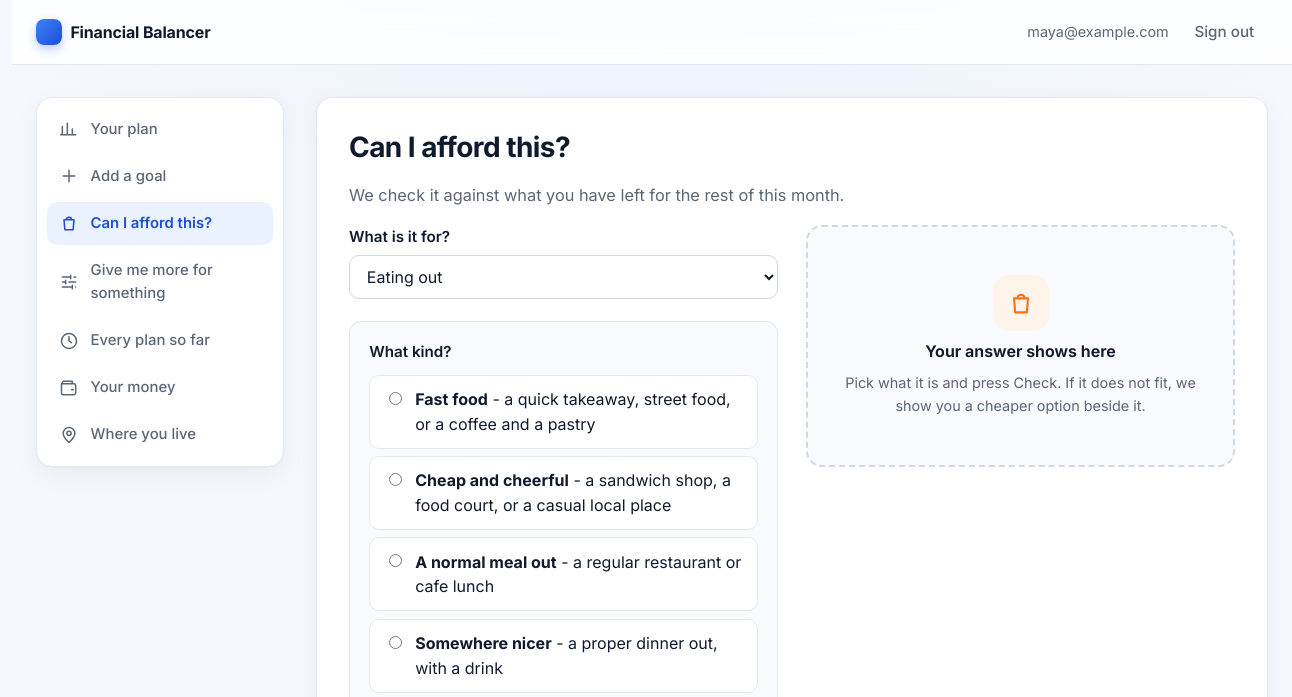
can I afford this? › never gives a verdict without the cheaper option beside it, and that option’s own verdict
The image size is (1292, 697).
Click the radio button labelled "A normal meal out - a regular restaurant or cafe lunch": (395, 561) left=389, top=554, right=402, bottom=567
(page scrolled)
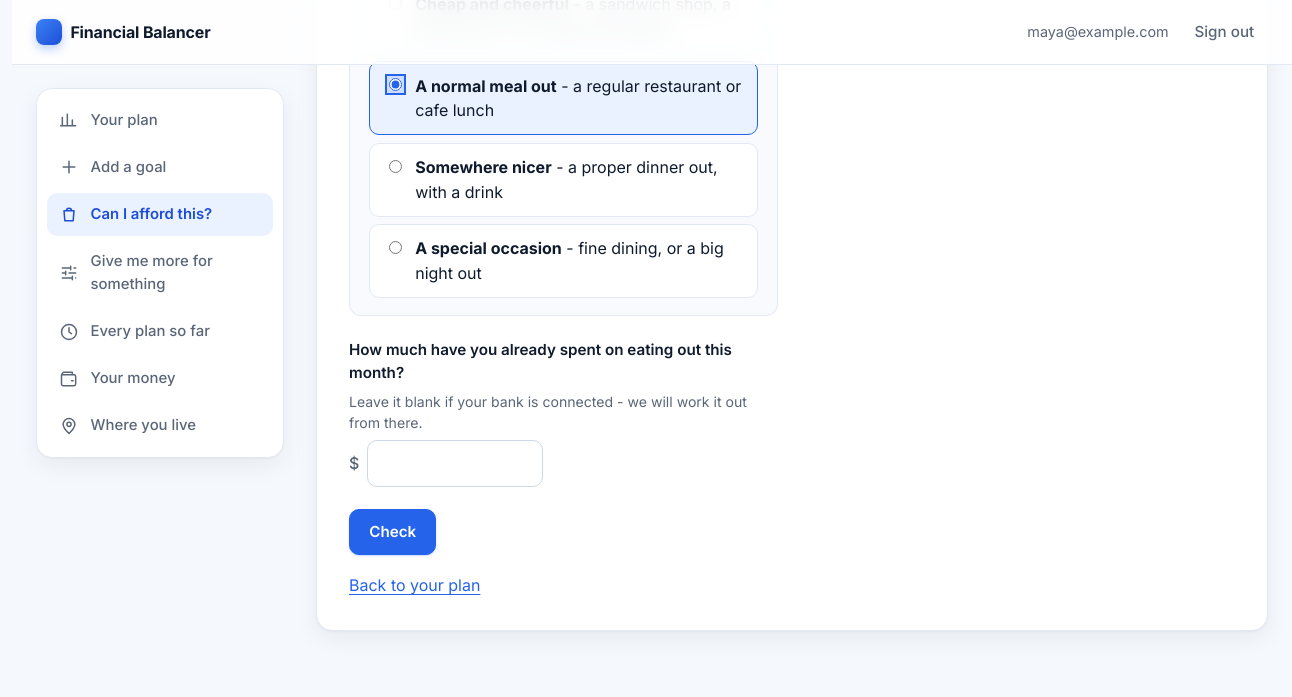
In the field labelled "How much have you already spent on eating out this month?": (455, 464) left=367, top=440, right=543, bottom=487, type "120.00"
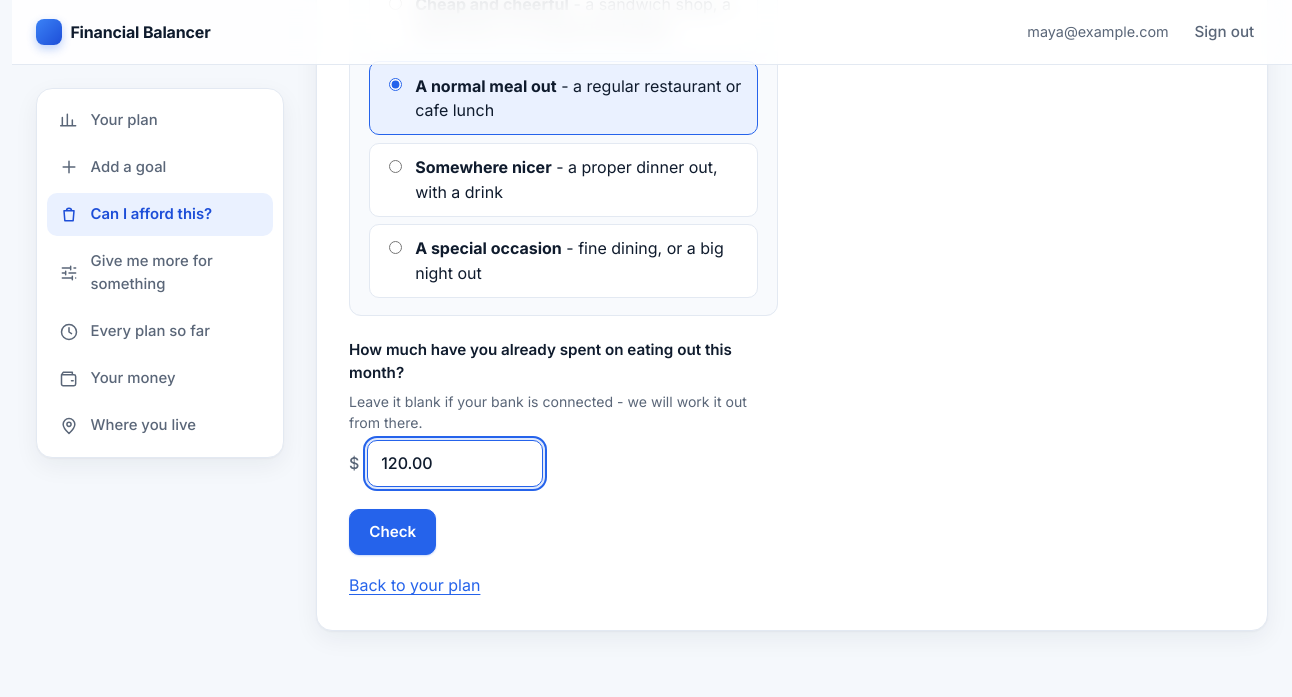
Click the button "Check": (393, 532) left=349, top=509, right=436, bottom=555
(page scrolled)
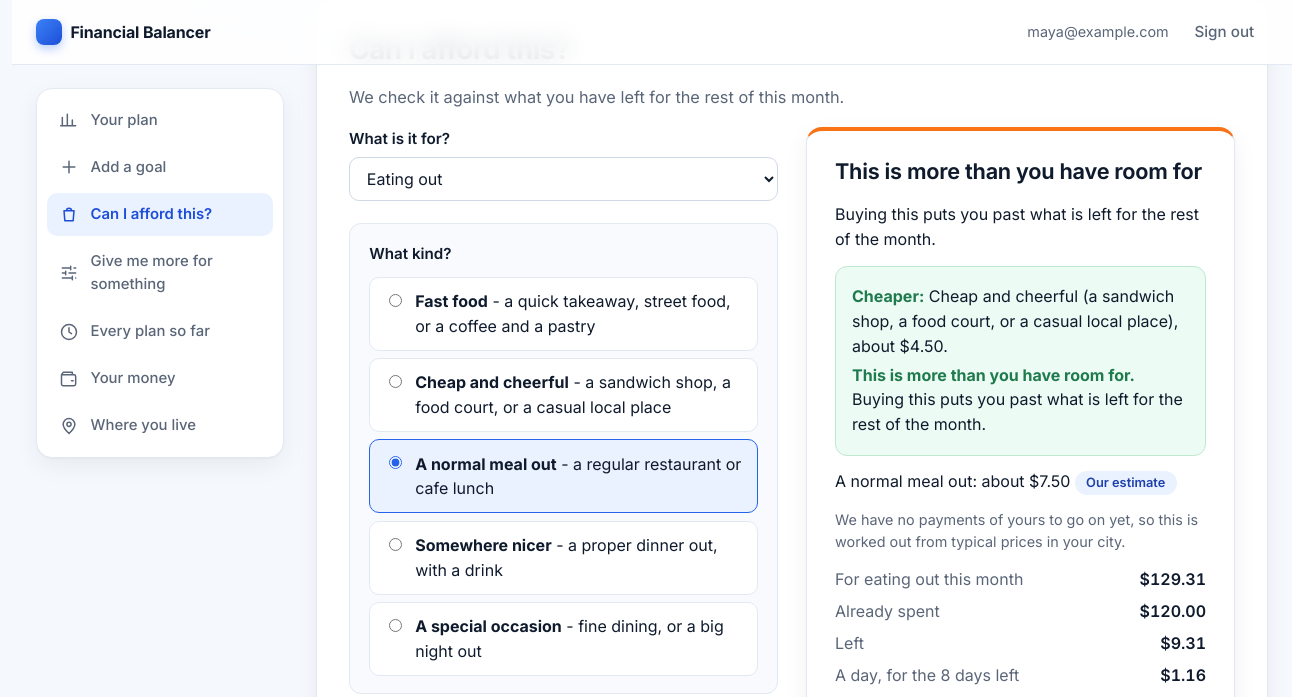
Expected: the element named "A cheaper option" shows "Cheap and cheerful", left=929, top=286, right=1078, bottom=306
Expected: the element named "A cheaper option" shows "$4.50", left=900, top=336, right=943, bottom=356
Expected: the element named "A cheaper option" shows "This is more than you have room for", left=852, top=365, right=1130, bottom=385
